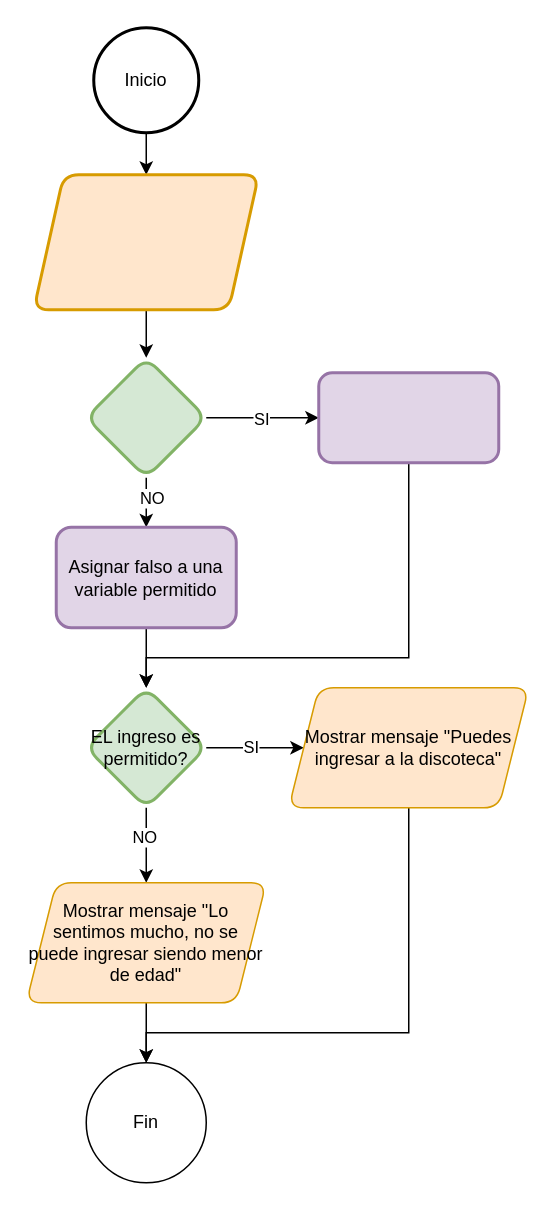
Some shapes in this 555 by 1209 pixel diagram are drawn without their labels. Here are the shapes that lost their labels. From the top down, the centre of each, then its label:
the point at 146,241: Mostrar mensaje: "Por favor ingrese la edad del cliente: "
the point at 145,417: Si edad es >= 18
the point at 408,417: Asignar verdadero a una variable permitido
